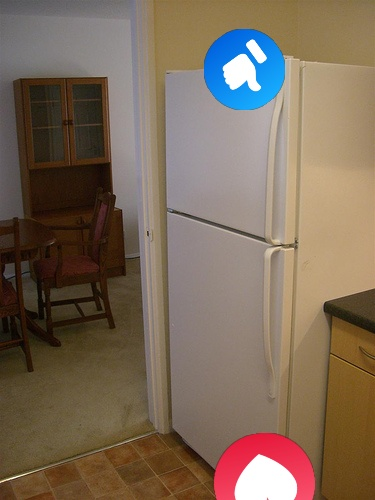like: (204, 29, 285, 110)
love: (214, 433, 315, 500)
